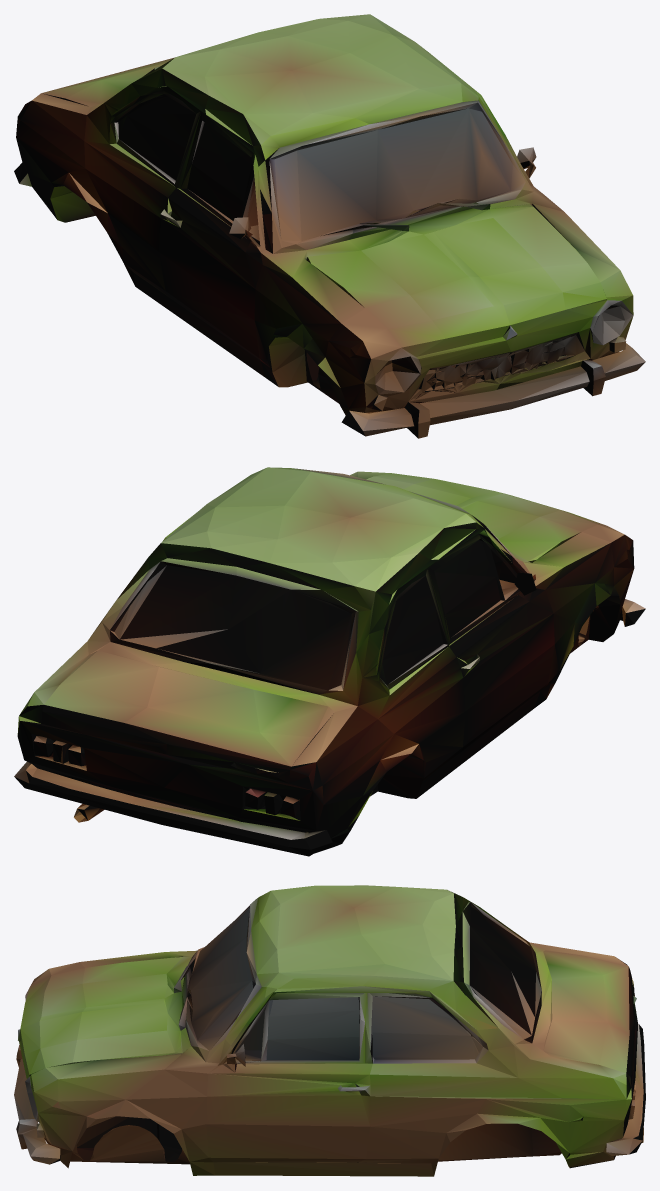
Rendered from anadol_a1.glb.
3 views of the same model, one above another, from view 1: azimuth 30°, elevation 25°; view 2: azimuth 150°, elevation 25°; view 3: azimuth 270°, elevation 25° (orthographic). The views are drawn at different scales.
Parts seen in each view (by area): view 1: Wreck_anadol_a1; view 2: Wreck_anadol_a1; view 3: Wreck_anadol_a1.
Part boxes in pixels (box(x1,y1,x2,y2)): Wreck_anadol_a1: box(14, 14, 645, 438); Wreck_anadol_a1: box(14, 467, 645, 856); Wreck_anadol_a1: box(14, 885, 645, 1176).
Bounding box in the file's own units: 2.2 × 1.5 × 4.2.
